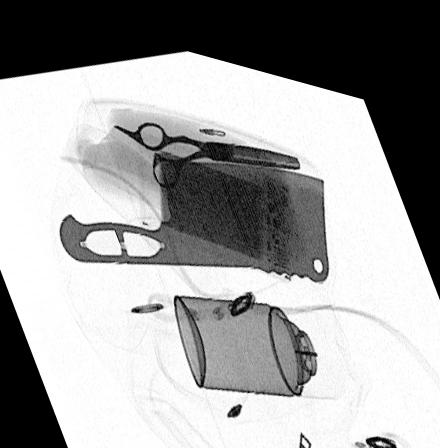Knife: (58, 138, 330, 266)
Powerbank: (139, 124, 292, 266)
Scissors: (113, 111, 301, 179)
Sprayer: (173, 285, 337, 380)
